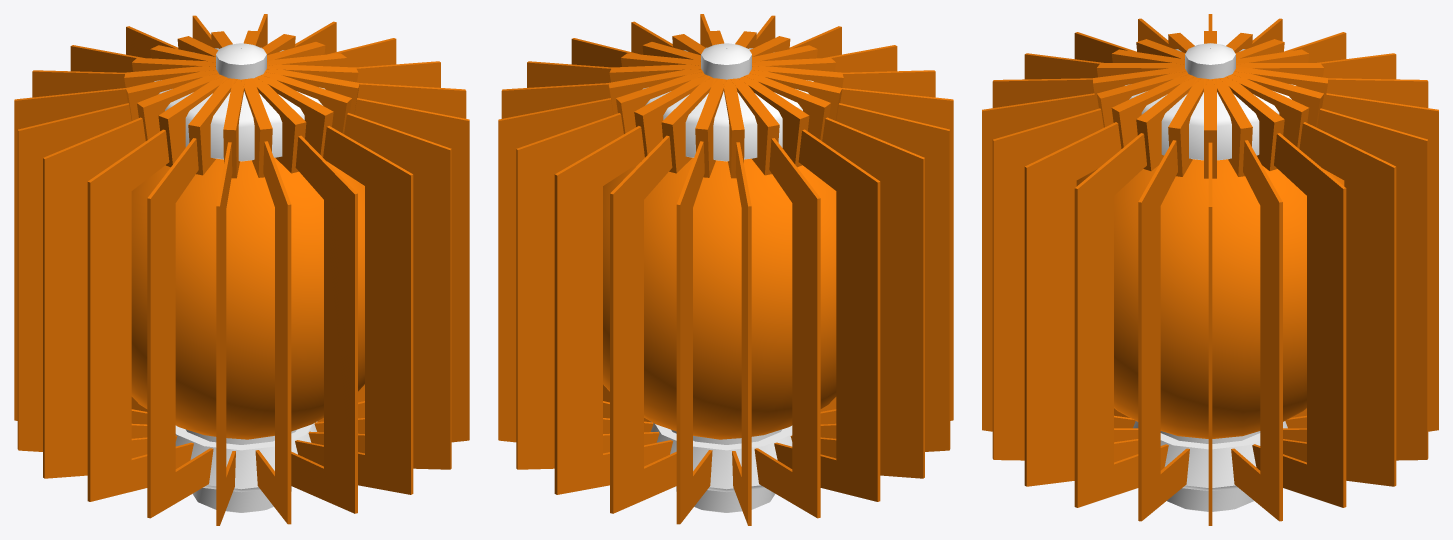
Rendered from prison model.obj.
3 renders of one model, left to right at view 1: azimuth 30°, elevation 25°; view 2: azimuth 150°, elevation 25°; view 3: azimuth 270°, elevation 25°, orthographic.
Size of the model in its own units: 296 by 320 by 296.
